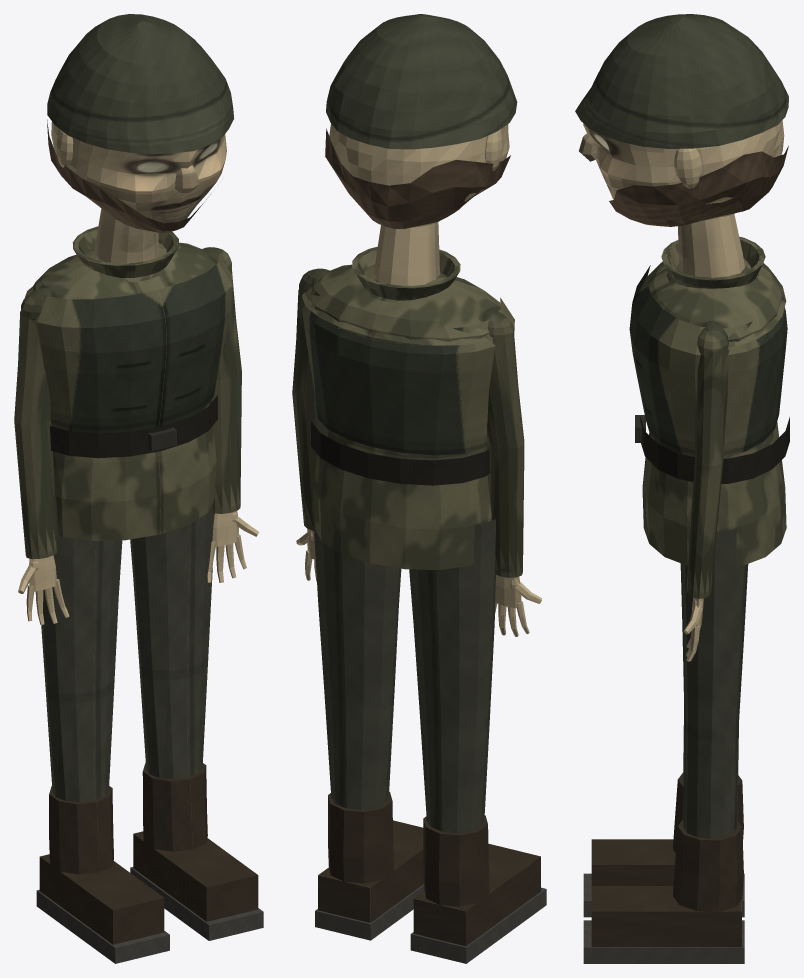
File: fig_5.glb
3 renders of one model, left to right at view 1: azimuth 30°, elevation 25°; view 2: azimuth 150°, elevation 25°; view 3: azimuth 270°, elevation 25°, orthographic. The views are drawn at different scales.
Parts seen in each view (by area): view 1: figure; view 2: figure; view 3: figure.
Boxes of the visible parts, left/top/right/bottom form: figure: left=14, top=14, right=263, bottom=963; figure: left=292, top=14, right=546, bottom=963; figure: left=575, top=14, right=789, bottom=963.
Bounding box in the file's own units: 0.6666 × 2.35 × 0.5035.
Materials: 2 (2 with a texture image).
